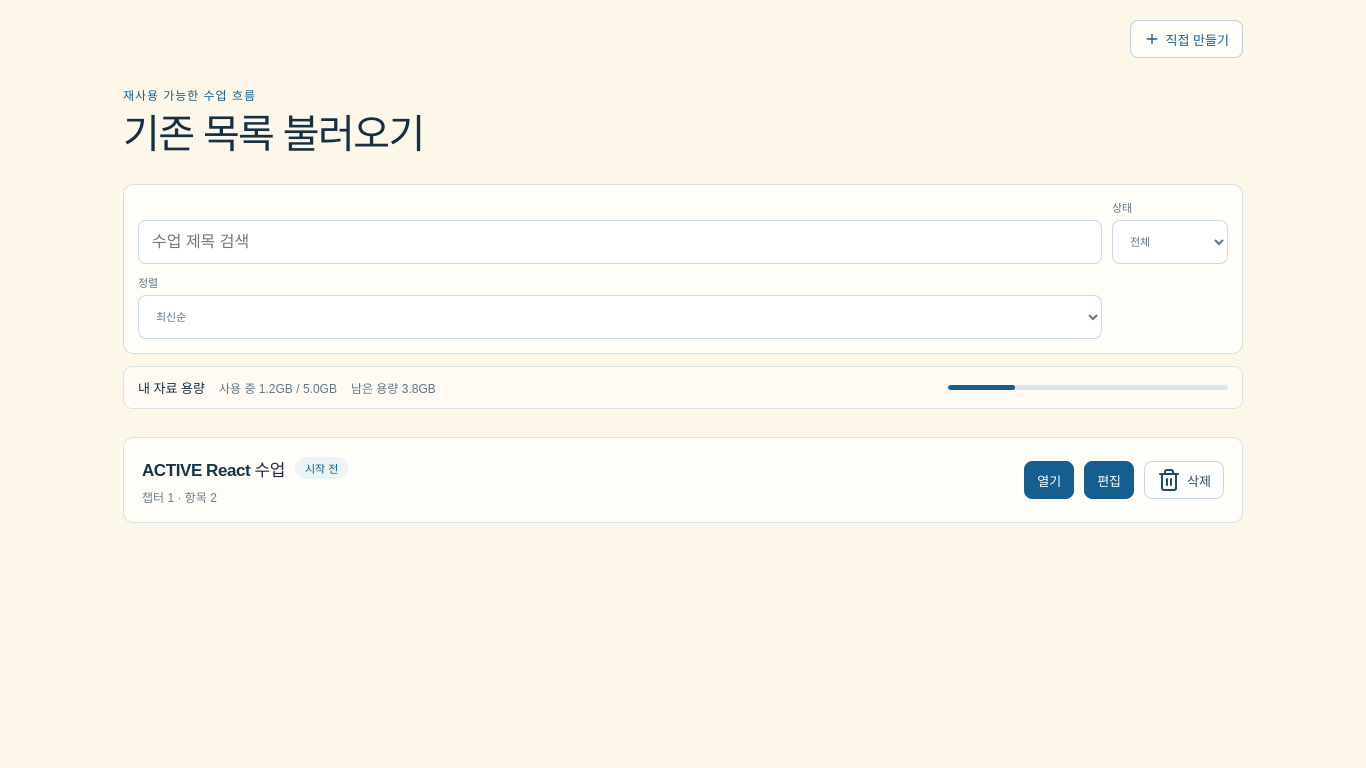
Test: CloudCourseCatalogPage › 현재 상태 안에서 제목 검색 결과가 없을 때 빈 상태를 표시한다
The width and height of the screenshot is (1366, 768).
Expected: the heading "ACTIVE React 수업" is shown, [142,456,285,480]
Type "없는 제목" into the field named "수업 흐름 검색".
click(620, 242); type("없는 제목")  # box [138,220,1102,264]
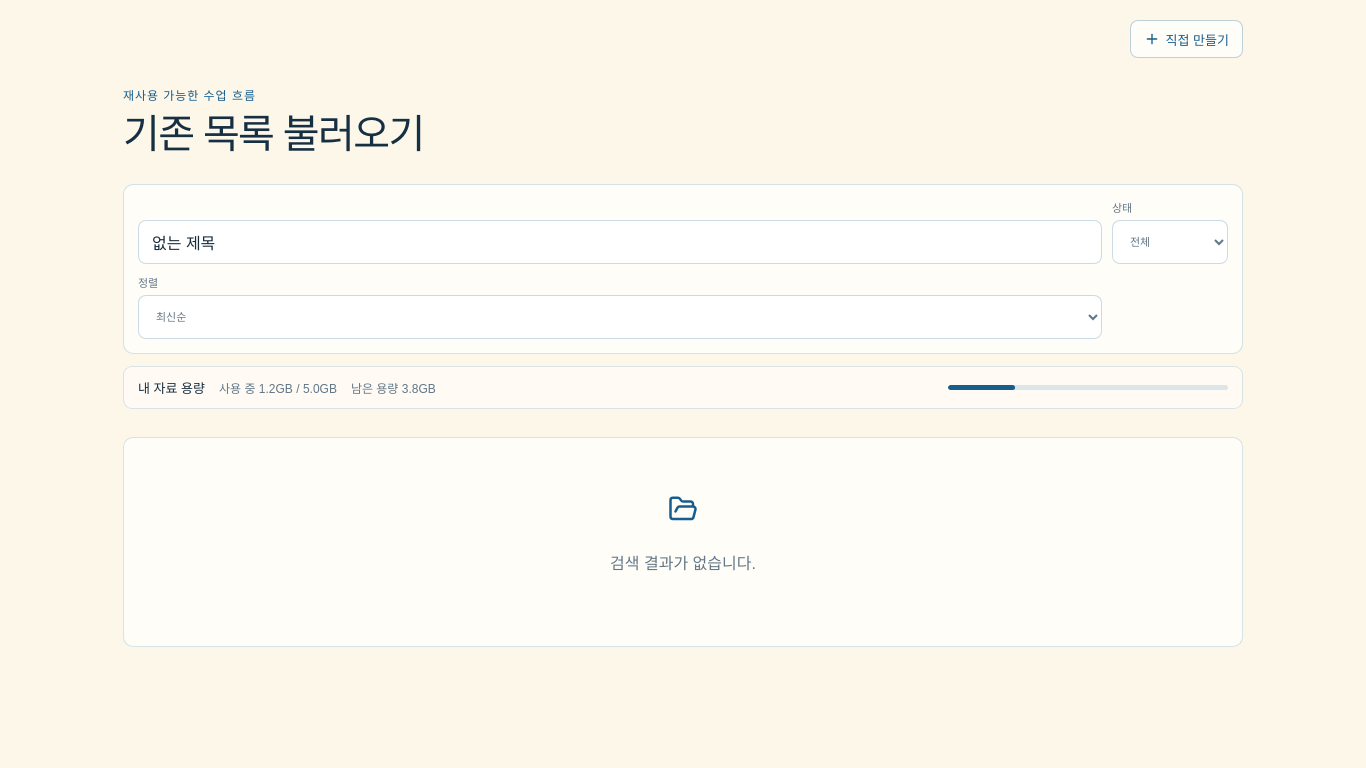
Now the text "검색 결과가 없습니다." is shown, box [610,550,756,574]
